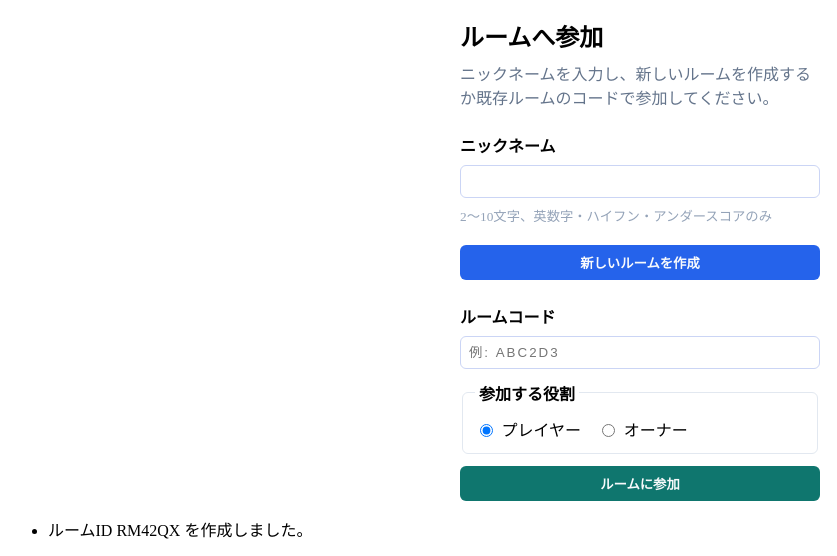
App lobby interactions › joins an existing room as player with the provided code
This screenshot has width=837, height=556.
In the field labelled "ニックネーム": (640, 181) [460,165,820,198], type "MIKU"
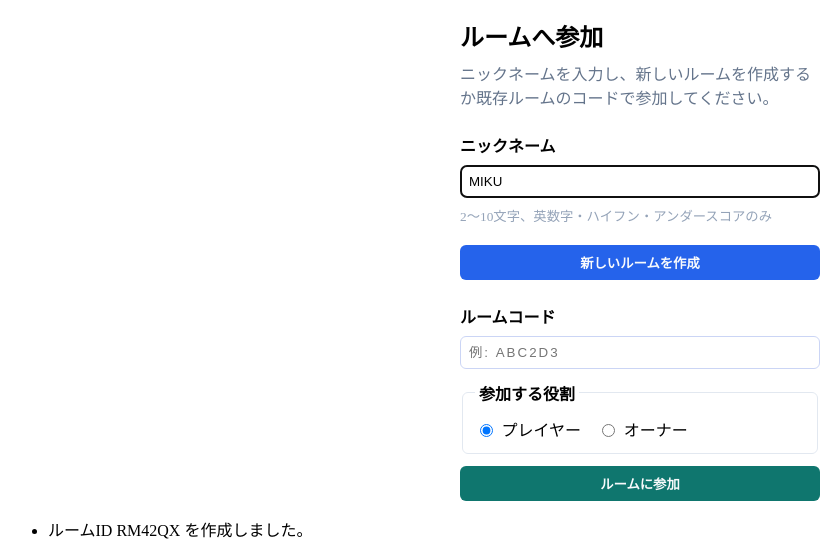
In the field labelled "ルームコード": (640, 352) [460,336,820,369], type "abc2d3"
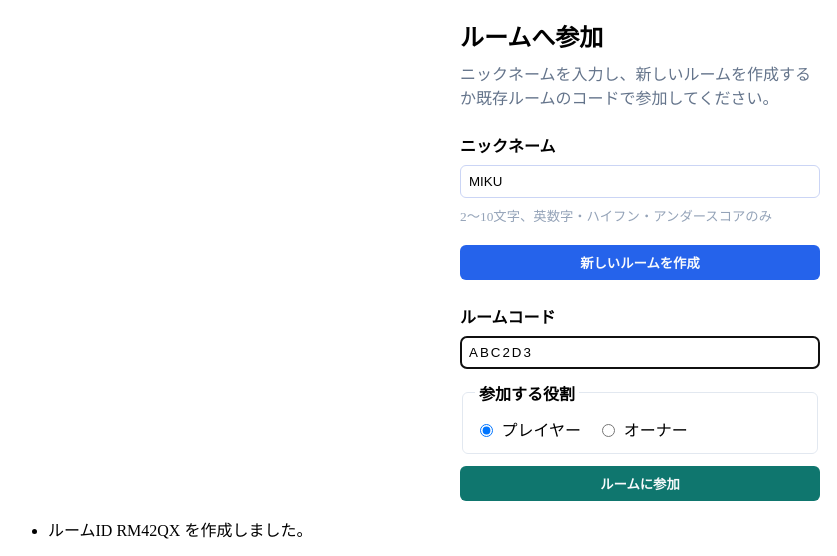
Click the radio button labelled "プレイヤー": (486, 430) [480,424,493,437]
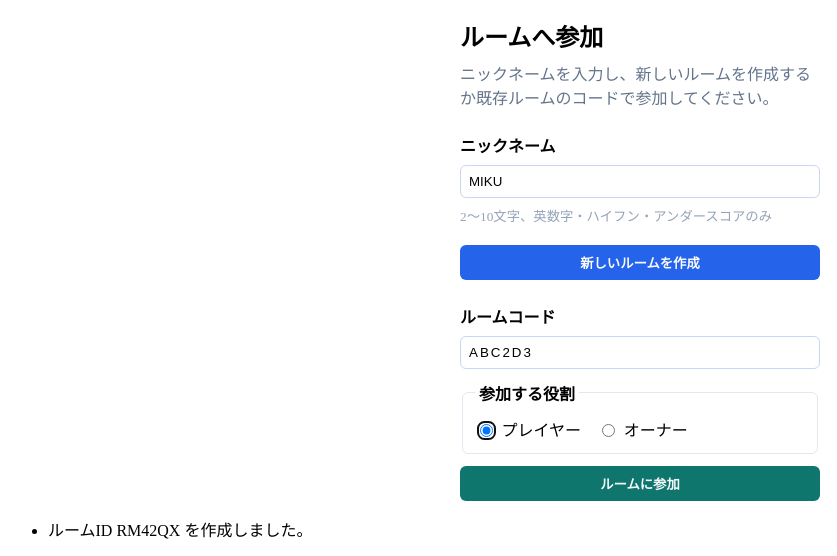
Click the button "ルームに参加": (640, 483) [460,466,820,501]
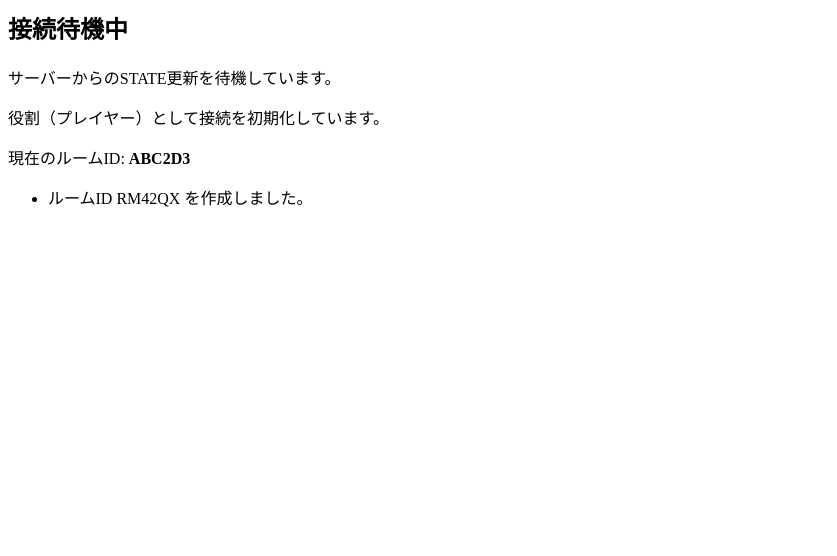
expect the text "役割（プレイヤー）として接続を初期化しています。" is shown: met, box [8,110,389,127]
